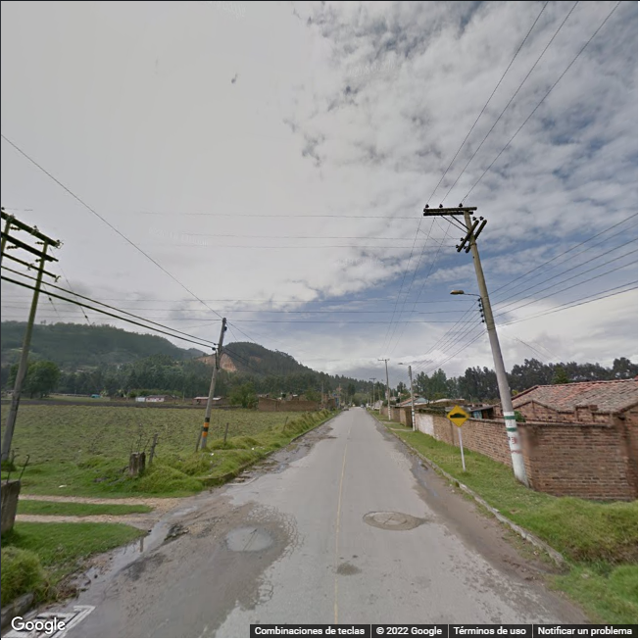D20: (284, 504, 305, 568)
D40: (225, 514, 272, 560)
